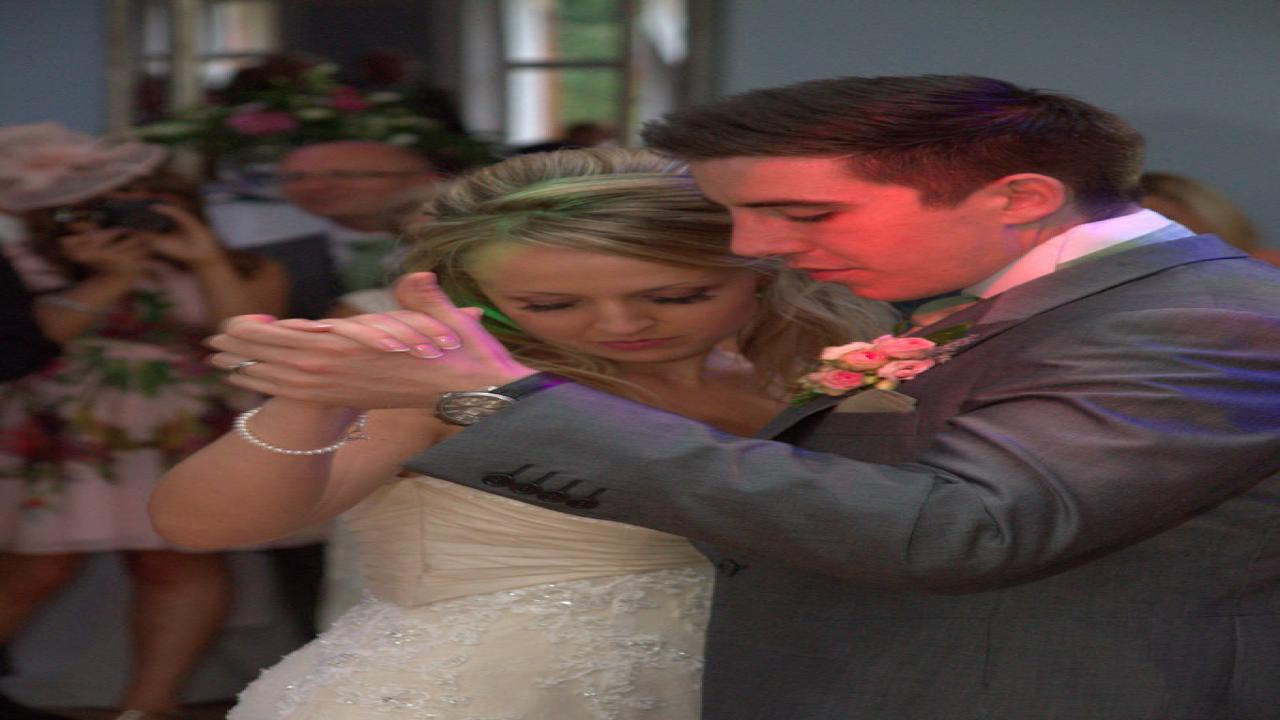ring: (228, 360, 263, 376)
